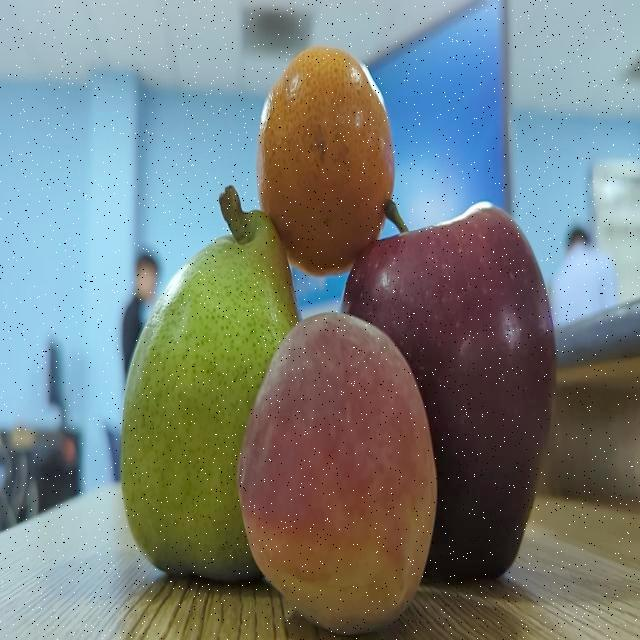Apel Merah: (397, 192, 566, 596)
Jeruk Mandarin: (256, 38, 404, 276)
Persik: (241, 306, 438, 636)
Pir: (118, 184, 297, 586)
